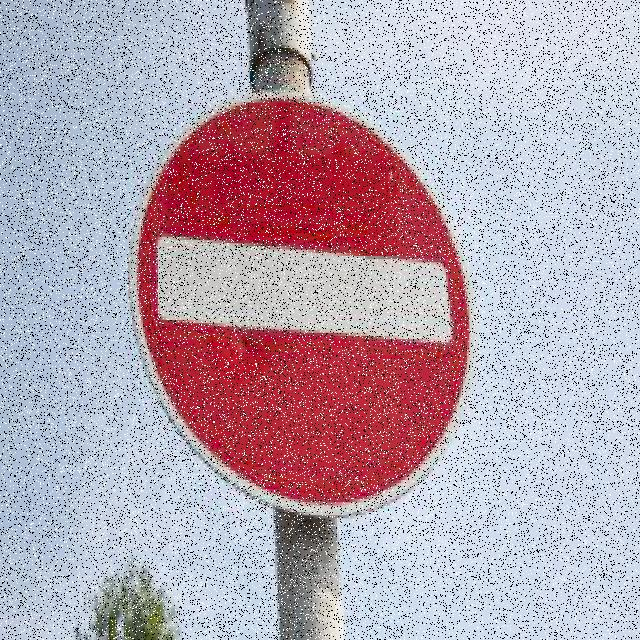no entry: (130, 90, 474, 512)
